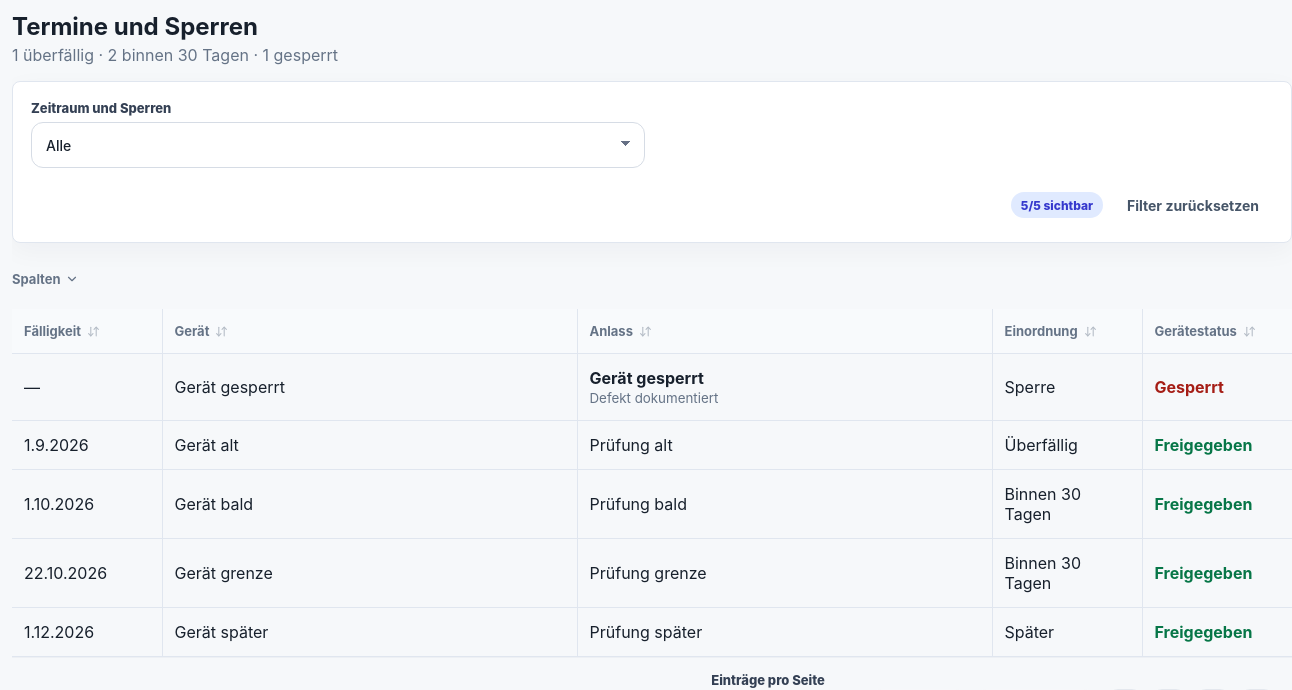
it: MPG-Termine › shows blocked devices without a due date and separates overdue and upcoming checks
Expected: the text "Defekt dokumentiert" is shown, [590,390,718,406]
Select "Überfällig" in the dropdown labelled "Zeitraum und Sperren" at (338,145), box [31,122,645,168]
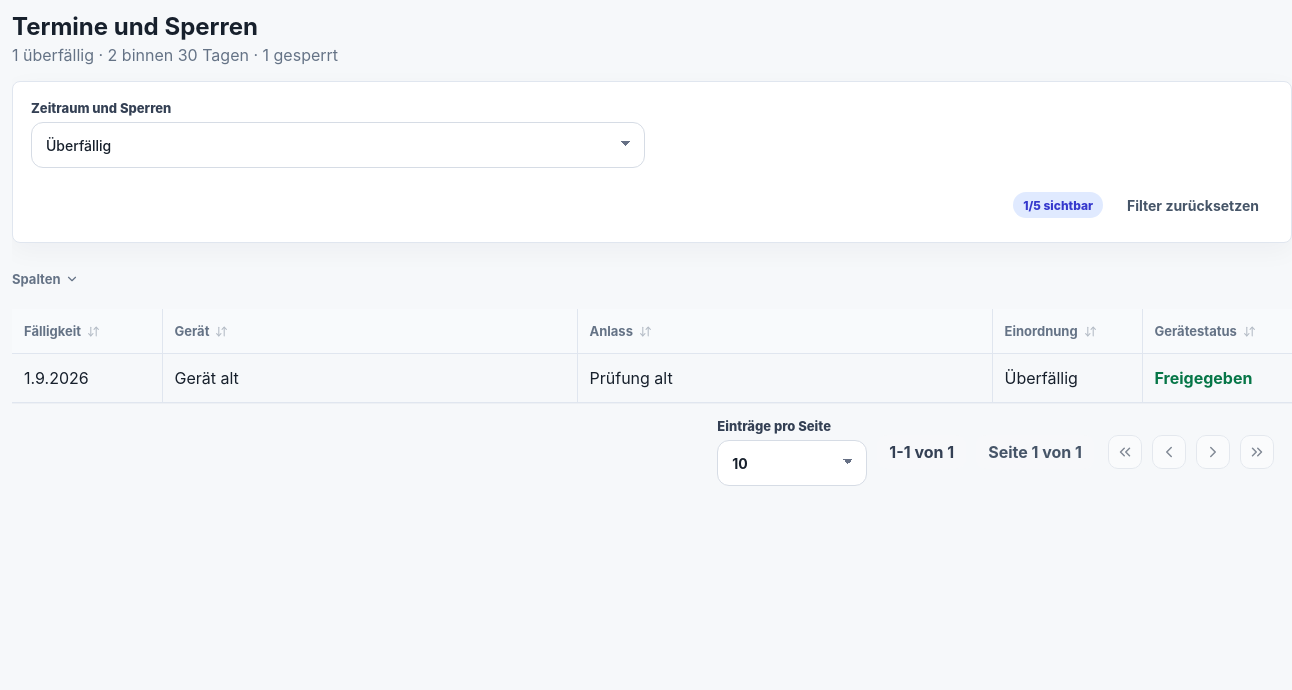
Expected: the link "Gerät alt" is shown, [174,368,239,388]
Now the link "Gerät bald" is gone
Select "Binnen 30 Tagen" in the dropdown labelled "Zeitraum und Sperren" at (338,145), box [31,122,645,168]
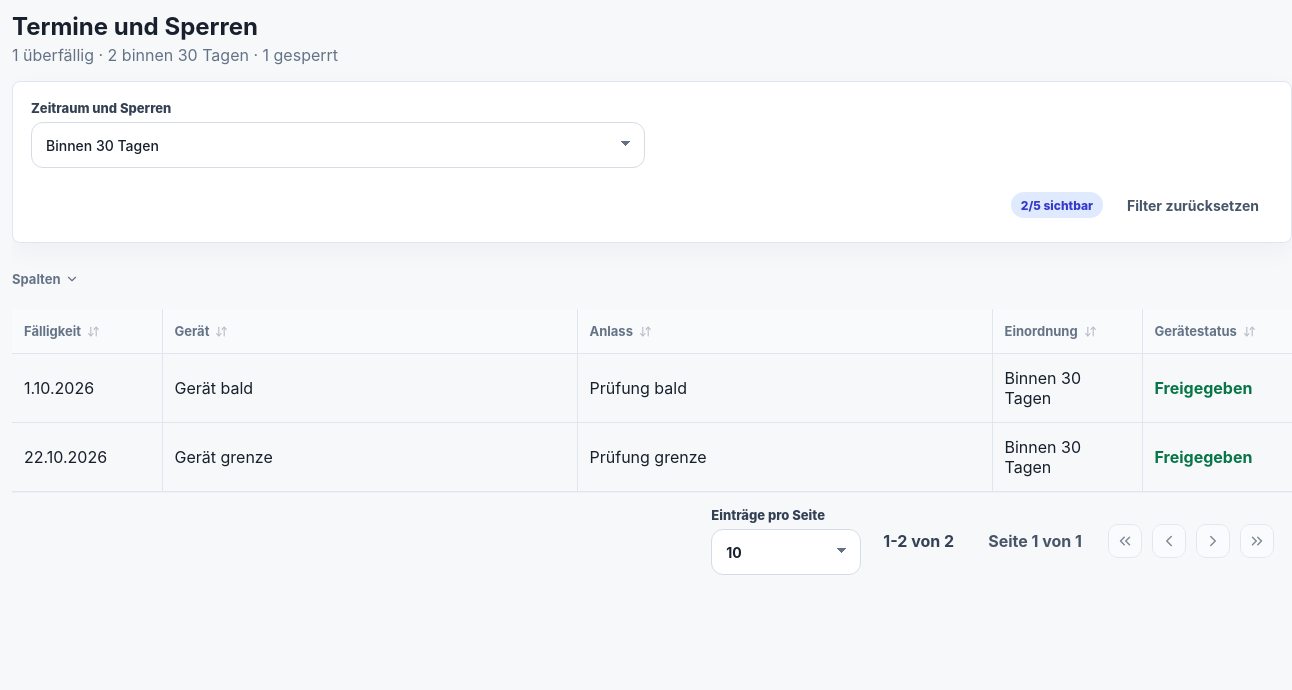
Now the link "Gerät bald" is shown, box [174,378,253,398]
Now the link "Gerät grenze" is shown, box [174,447,273,467]
Select "Gesperrt" in the dropdown labelled "Zeitraum und Sperren" at (338,145), box [31,122,645,168]
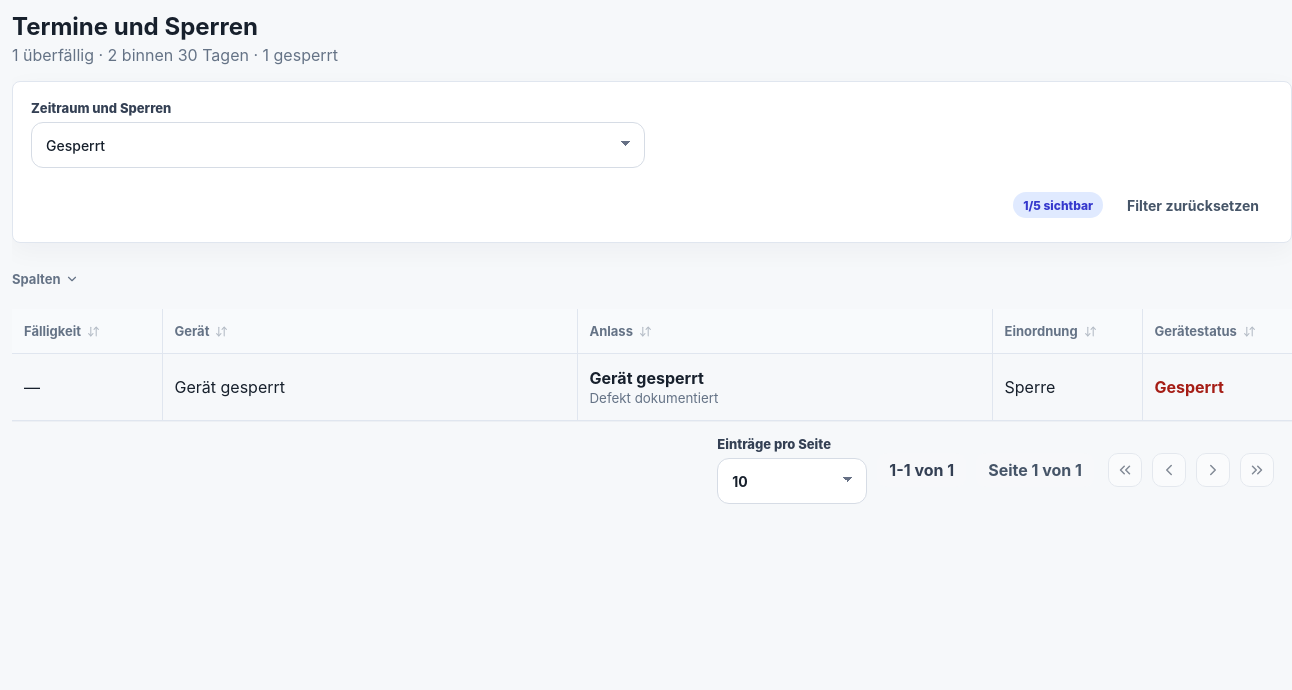
Now the link "Gerät gesperrt" is shown, box [174,377,285,397]
Click the button "Filter zurücksetzen" at (1193,205), box [1113,186,1273,224]
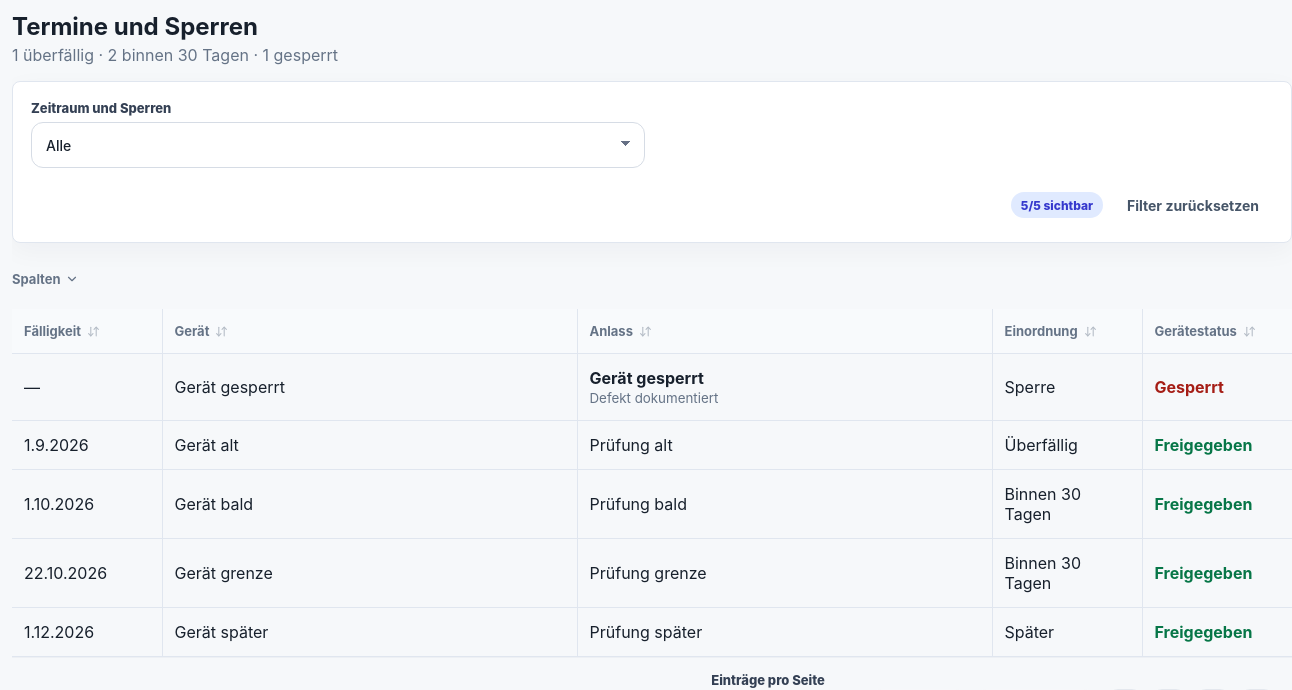
Now the link "Gerät später" is shown, box [174,622,268,642]
